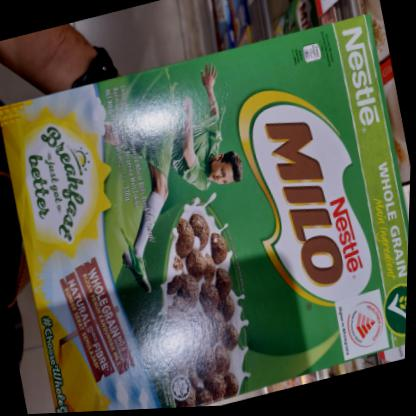i: (0, 6, 415, 415)
